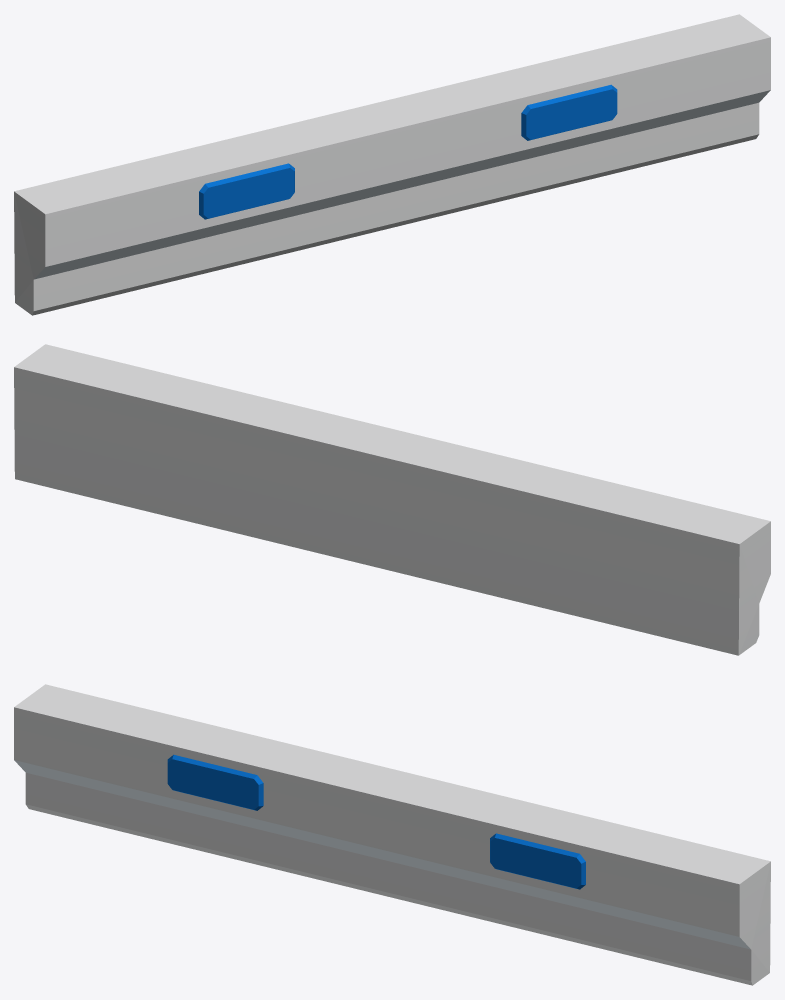
The model's file is Wall_type_A_025.fbx.
3 renders of one model, top to bottom at view 1: azimuth 30°, elevation 25°; view 2: azimuth 150°, elevation 25°; view 3: azimuth 330°, elevation 25°, orthographic.
Visible parts, largest first — view 1: Wall_type_A_025; view 2: Wall_type_A_025; view 3: Wall_type_A_025.
Boxes of the visible parts, x1,y1,x2,y2 form: Wall_type_A_025: (14,14,770,315); Wall_type_A_025: (14,344,770,655); Wall_type_A_025: (14,684,770,985).
Size of the model in its own units: 360 by 28.98 by 53.
